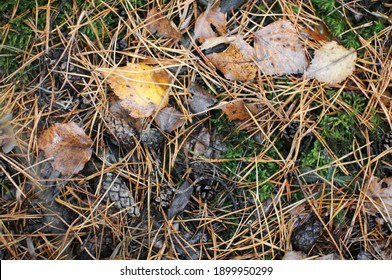Pc: (95, 172, 140, 217), (96, 114, 137, 149), (288, 219, 324, 251)
